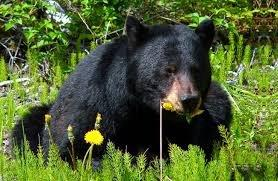bear: (12, 16, 233, 162)
